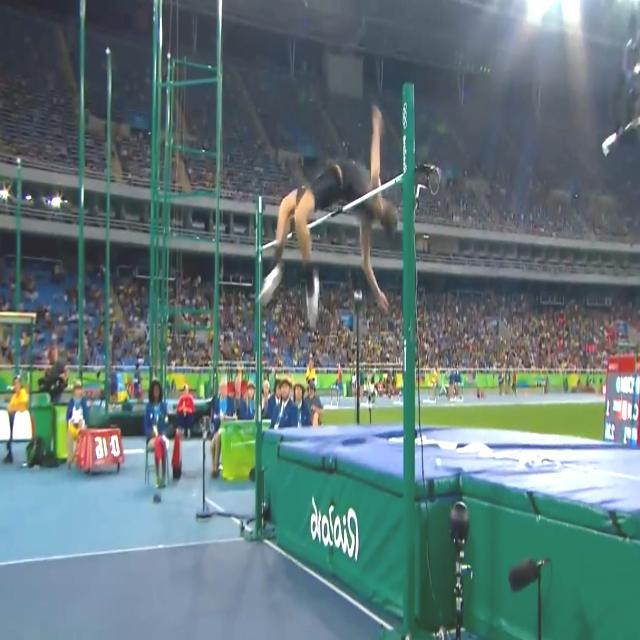jump: (255, 104, 399, 333)
